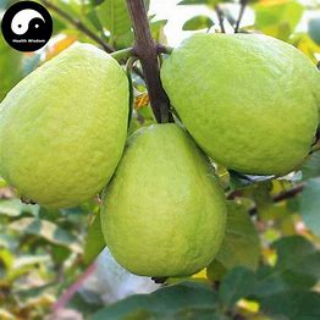oi: (160, 30, 320, 177), (1, 45, 129, 215), (101, 120, 229, 287)
